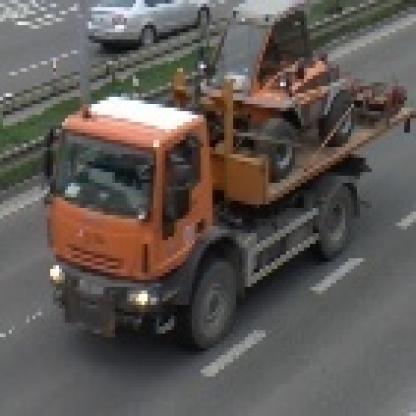truck: (39, 1, 413, 352)
